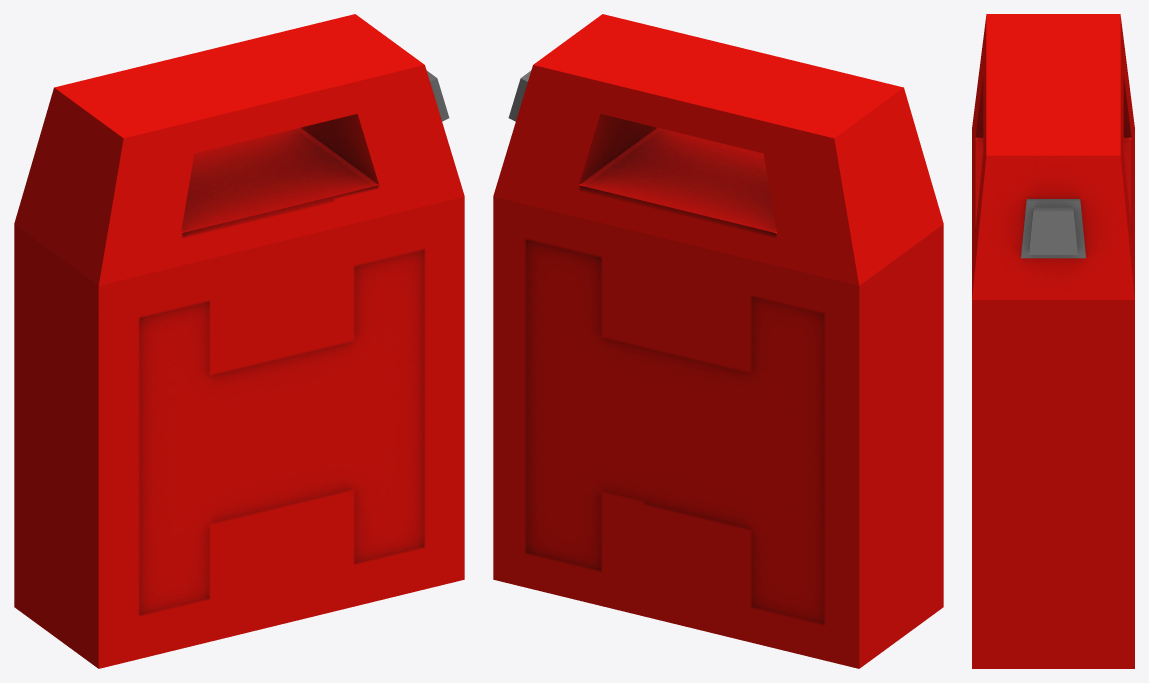
Rendered from fuelTank.glb.
3 views of the same model, side by side, from view 1: azimuth 30°, elevation 25°; view 2: azimuth 150°, elevation 25°; view 3: azimuth 270°, elevation 25° (orthographic). The views are drawn at different scales.
Visible parts, largest first — view 1: Cube.001; view 2: Cube.001; view 3: Cube.001.
Boxes of the visible parts, box(x1,y1,x2,y2) form: Cube.001: box(14, 14, 464, 668); Cube.001: box(493, 14, 943, 668); Cube.001: box(972, 14, 1134, 668).
Size of the model in its own units: 2.08 by 2.7 by 0.8.
Materials: 1 (1 with a texture image).
